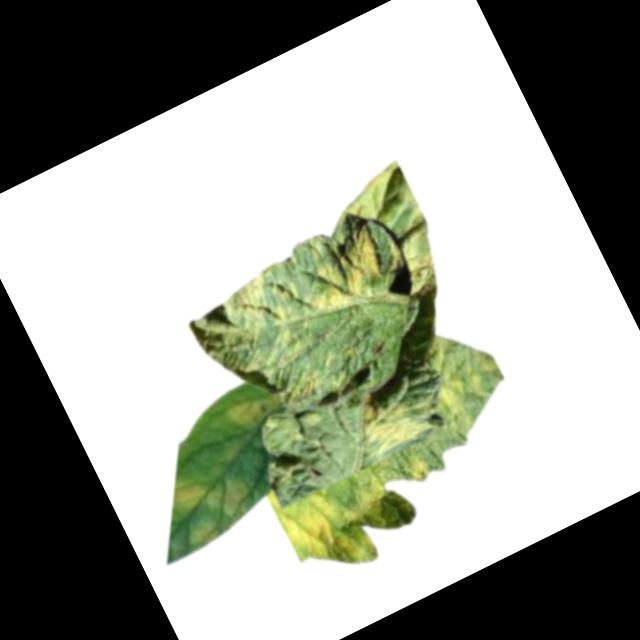Leaf_Mold: (273, 463, 411, 593), (411, 315, 520, 437), (283, 212, 397, 325), (159, 458, 260, 543), (347, 375, 433, 460), (212, 267, 295, 348), (390, 245, 451, 308), (222, 383, 286, 439), (279, 367, 325, 409), (399, 450, 436, 488), (181, 518, 221, 553)
